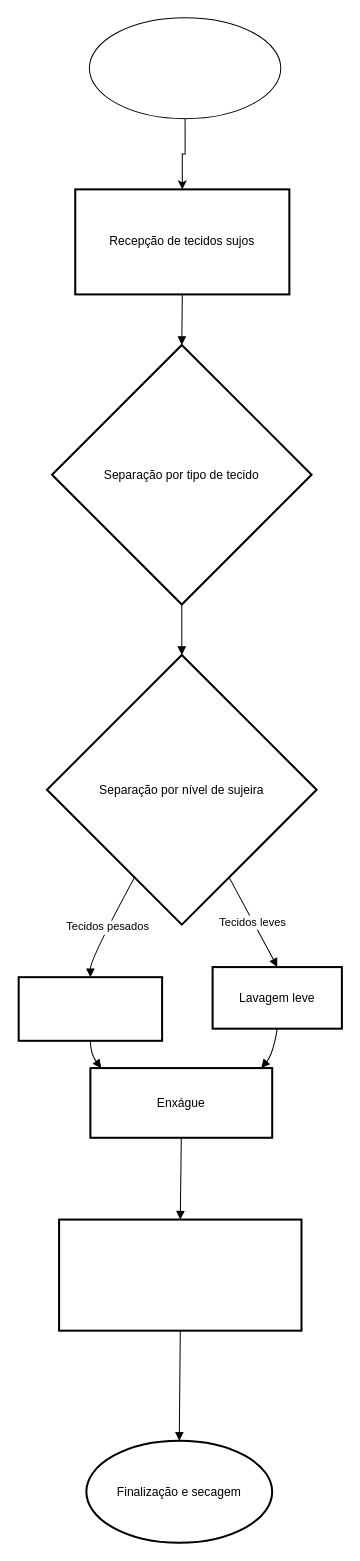
Image size: 360x1561. Some labels were removed from this diagram. Each missing label, with the box of its shape:
Centrifugação: (58, 1218, 302, 1331)
Inicio: (88, 17, 281, 119)
Lavagem pesada: (17, 976, 163, 1041)
